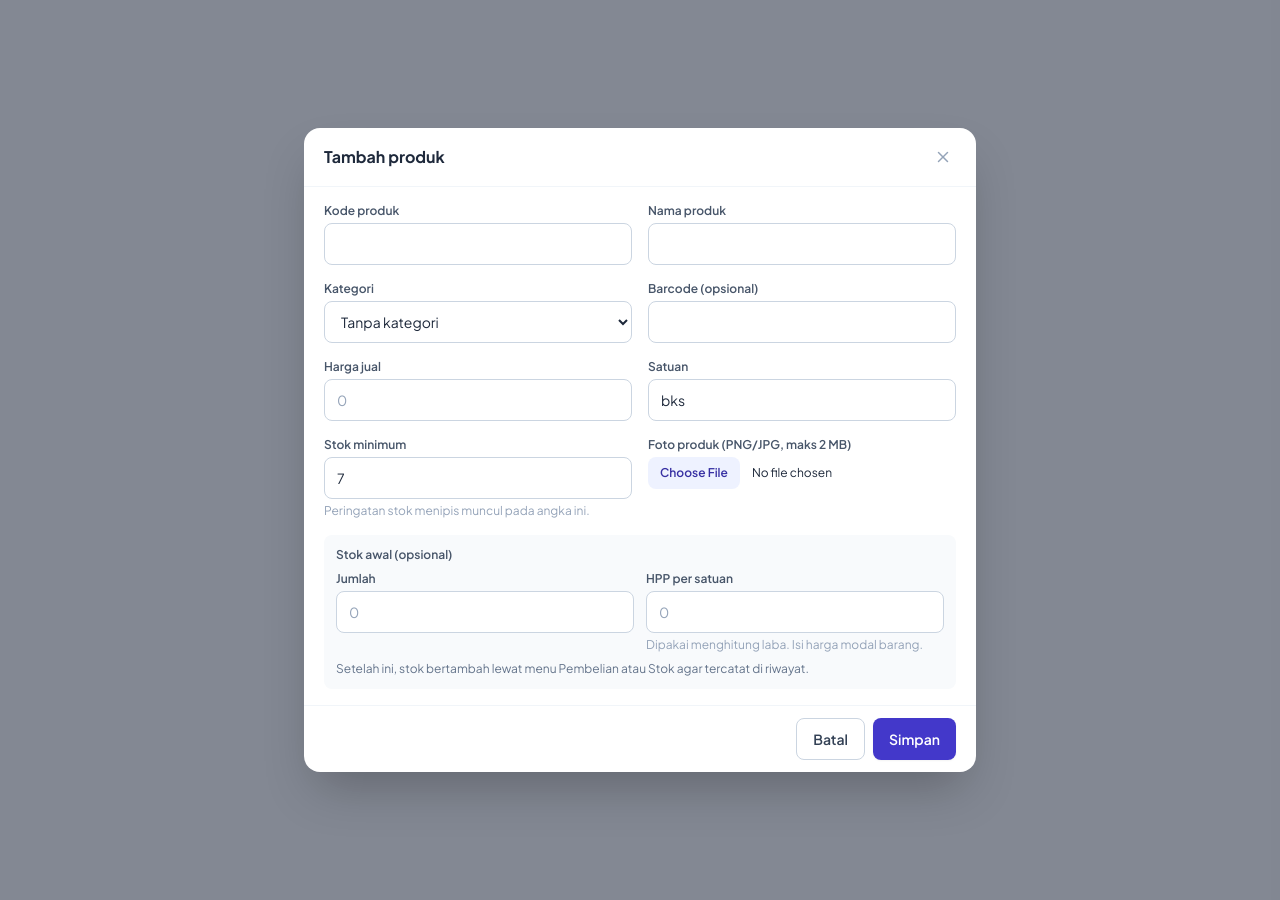
ProductForm › validasi: nama kosong ditolak dan service tidak dipanggil
The width and height of the screenshot is (1280, 900).
Click the button "Simpan". click: (914, 739)
box: [873,718,956,760]
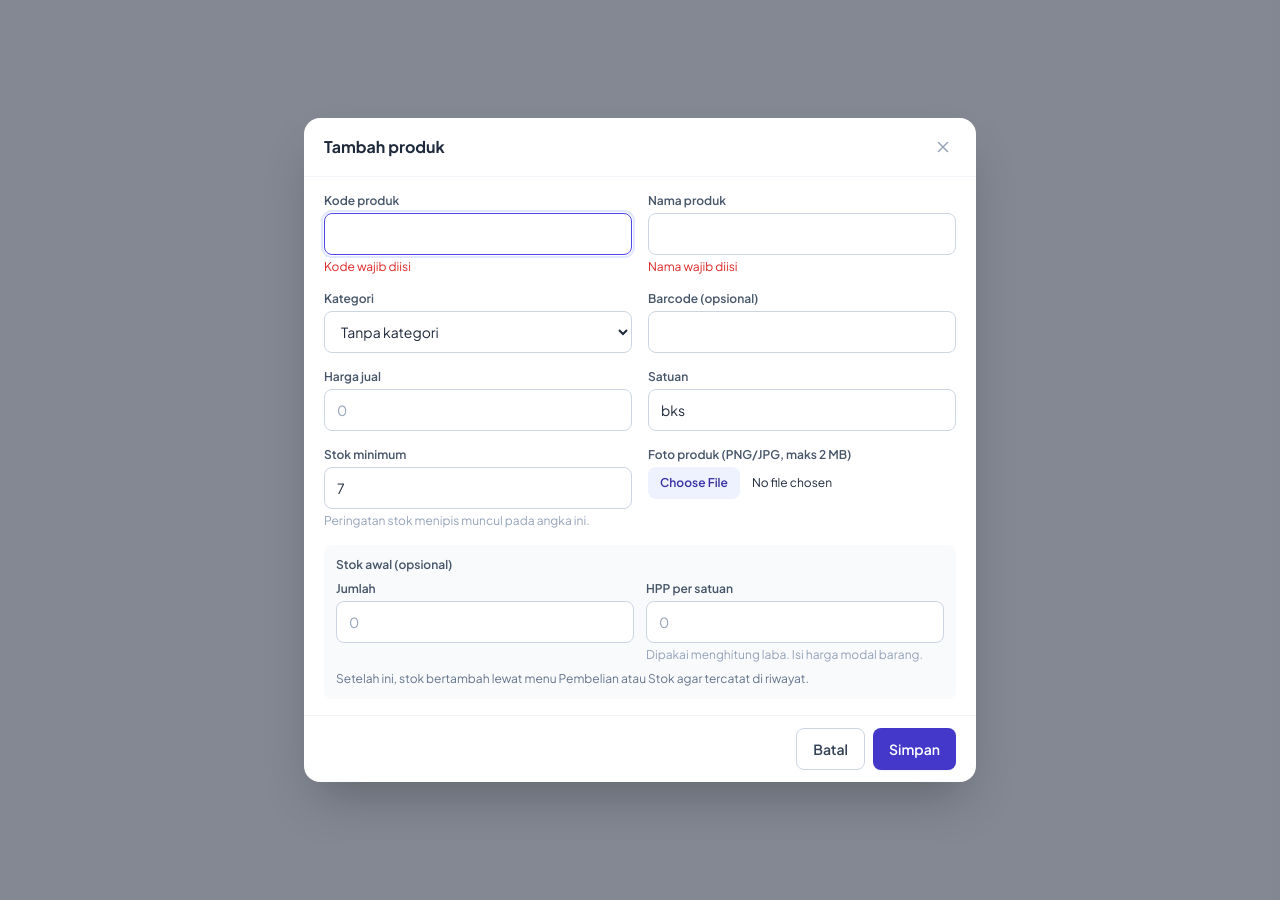
Expected: the text "Kode wajib diisi" is shown, [324,259,411,274]
